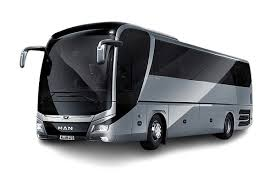bus: (19, 21, 254, 150)
